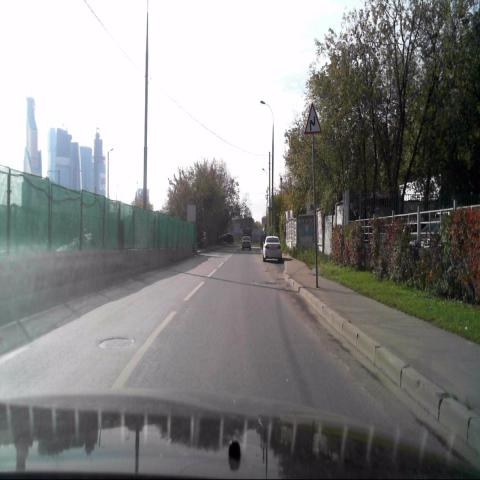1_12: (304, 104, 322, 134)
